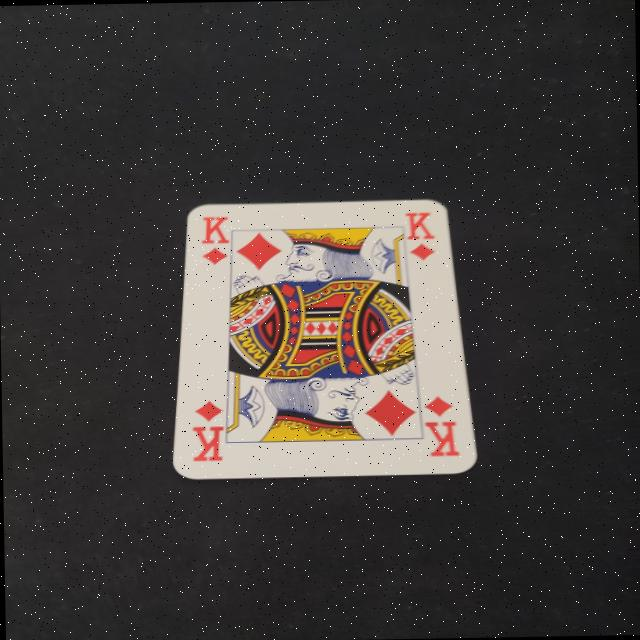Kd: (184, 395, 241, 468), (418, 391, 467, 464), (398, 205, 444, 268), (196, 207, 237, 272)
